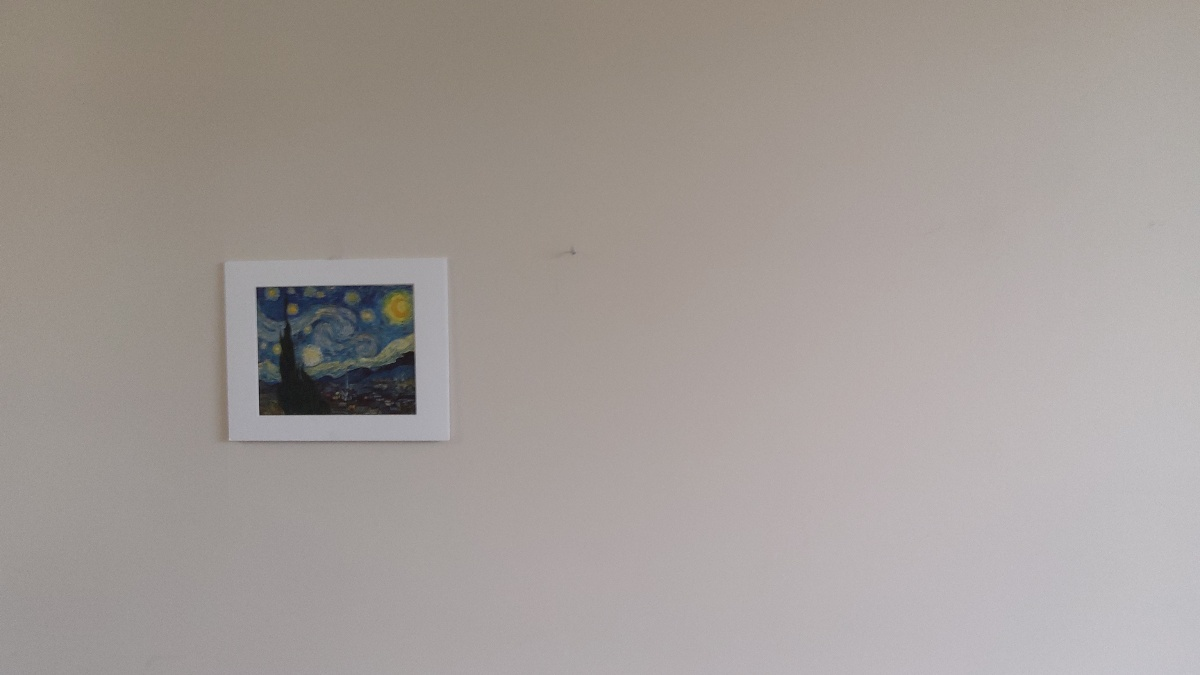painting: (247, 277, 427, 431)
